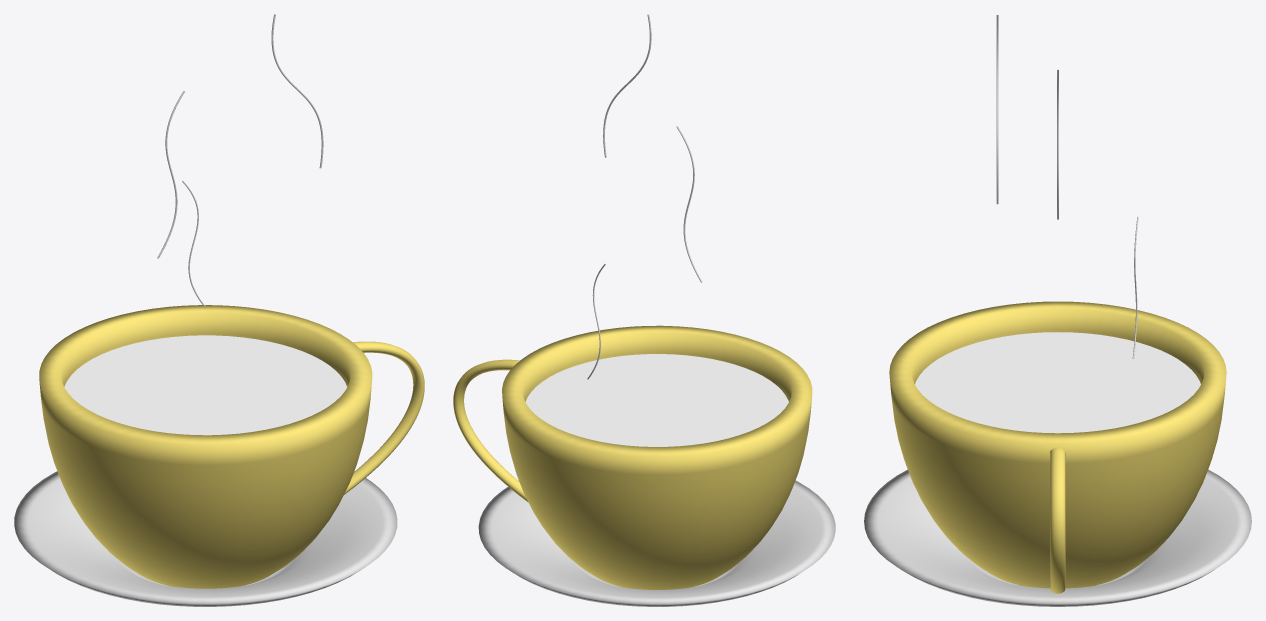
Rendered from cafe.glb.
The picture shows the model from 3 angles, left to right: view 1: azimuth 30°, elevation 25°; view 2: azimuth 150°, elevation 25°; view 3: azimuth 270°, elevation 25°; orthographic projection. The views are drawn at different scales.
Visible parts, largest first — view 1: Sphere, Circle, Sphere.001, NurbsPath; view 2: Sphere, Circle, Sphere.001, NurbsPath; view 3: Sphere, Circle, Sphere.001, NurbsPath, NurbsPath.003.
Part boxes in pixels (x1,y1,x2,y2): Sphere: [39, 305, 372, 588]; Circle: [64, 335, 346, 435]; Sphere.001: [14, 471, 397, 606]; NurbsPath: [344, 341, 424, 494]; Sphere: [502, 325, 812, 589]; Circle: [525, 354, 788, 446]; Sphere.001: [478, 480, 835, 606]; NurbsPath: [453, 359, 528, 502]; Sphere: [889, 301, 1226, 588]; Circle: [915, 332, 1200, 433]; Sphere.001: [864, 469, 1251, 606]; NurbsPath: [1050, 448, 1065, 593]; NurbsPath.003: [996, 15, 998, 204].
Bounding box in the file's own units: 2.64 × 3.73 × 2.29.
Materials: 3 (1 with a texture image).
